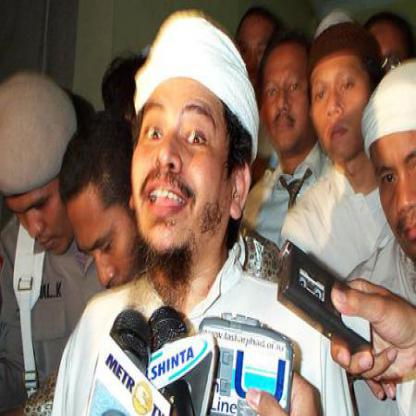face: (127, 23, 241, 263), (71, 164, 143, 327), (5, 114, 77, 265), (309, 31, 376, 162), (260, 43, 313, 152), (233, 11, 279, 106)
